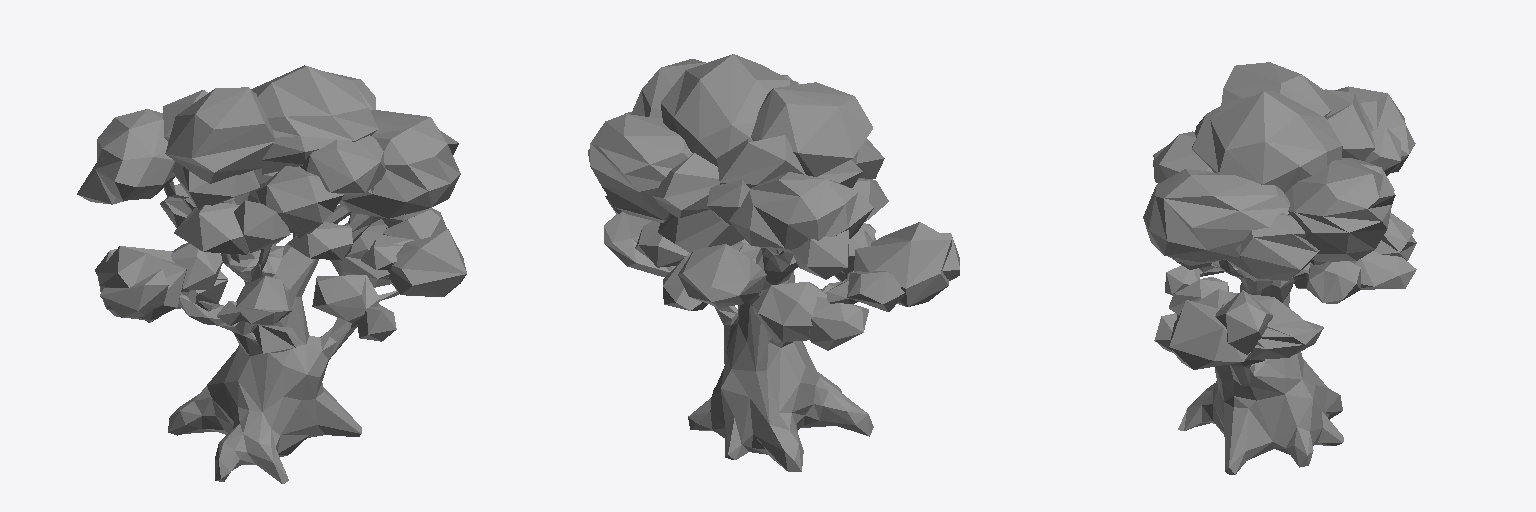
File: arbol1.obj
The picture shows the model from 3 angles: view 1: azimuth 30°, elevation 25°; view 2: azimuth 150°, elevation 25°; view 3: azimuth 270°, elevation 25°; orthographic projection.
Parts seen in each view (by area): view 1: fattree_Mesh_003; view 2: fattree_Mesh_003; view 3: fattree_Mesh_003.
Part boxes in pixels (bbox=[...]): fattree_Mesh_003: bbox=[77, 65, 466, 483]; fattree_Mesh_003: bbox=[588, 54, 959, 471]; fattree_Mesh_003: bbox=[1143, 62, 1416, 474].
Size of the model in its own units: 30.35 by 30.88 by 20.64.